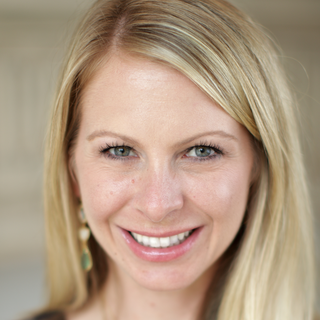eye: (177, 140, 225, 166), (98, 140, 145, 165)
